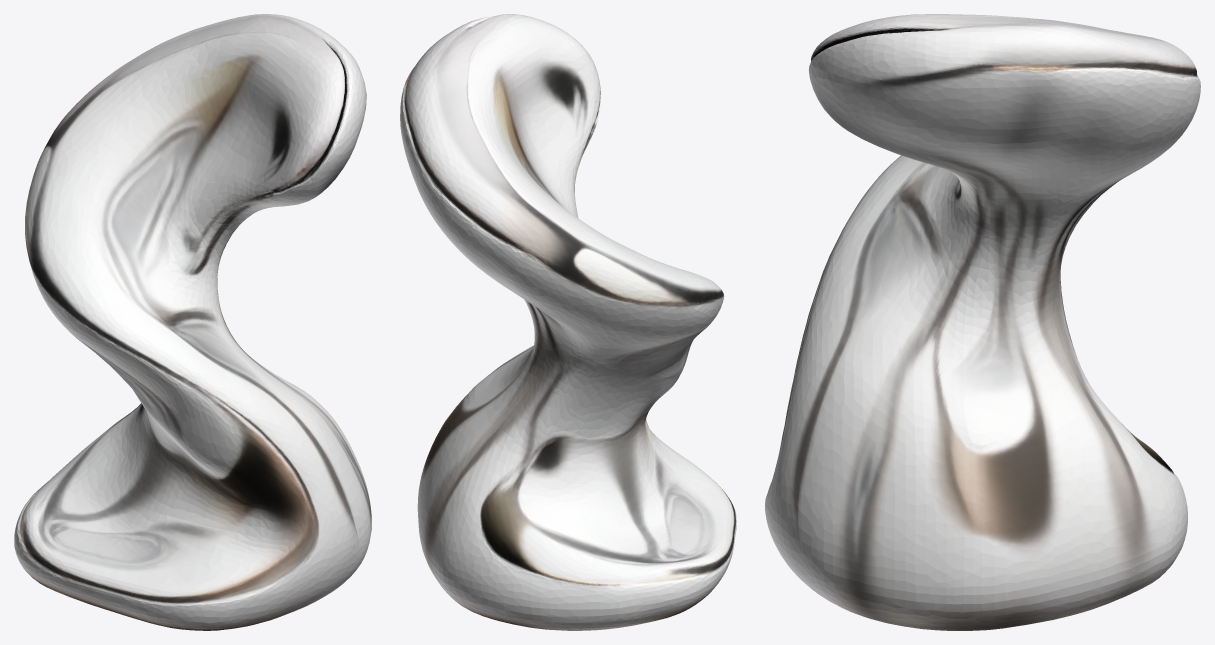
The model's file is sample.glb.
3 renders of one model, left to right at view 1: azimuth 30°, elevation 25°; view 2: azimuth 150°, elevation 25°; view 3: azimuth 270°, elevation 25°, orthographic. The views are drawn at different scales.
Parts seen in each view (by area): view 1: world; view 2: world; view 3: world.
Boxes of the visible parts, x1=… form: world: x1=14, y1=14, x2=371, y2=630; world: x1=400, y1=14, x2=736, y2=630; world: x1=765, y1=14, x2=1200, y2=630.
Bounding box in the file's own units: 0.6209 × 0.9998 × 0.6491.
1 material, 1 textured.
